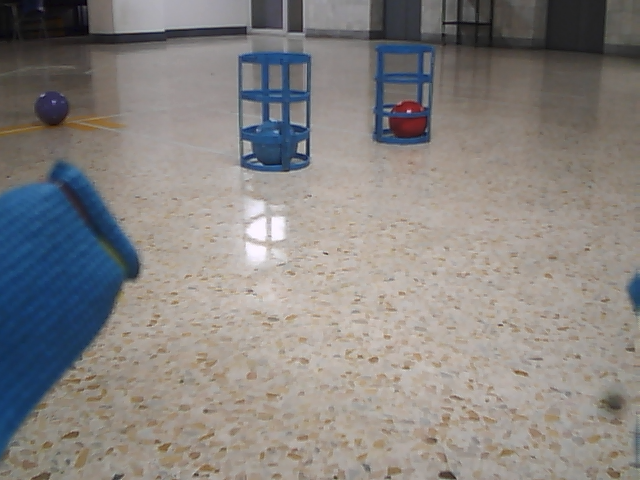Cyro: (235, 49, 314, 175), (371, 43, 435, 146), (252, 120, 299, 167)
Purple ball: (34, 89, 71, 126)
Red ball: (388, 99, 429, 138)
